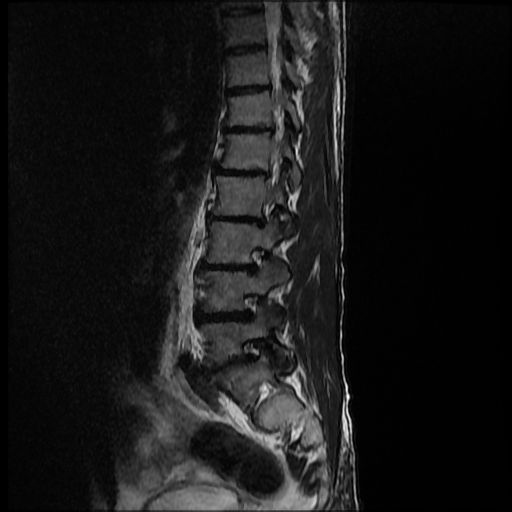LFS2: (228, 284, 275, 330), (228, 333, 280, 373), (232, 241, 278, 283)
